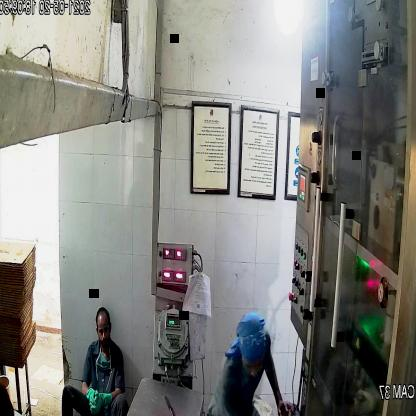no_goggles: (96, 322, 112, 340)
